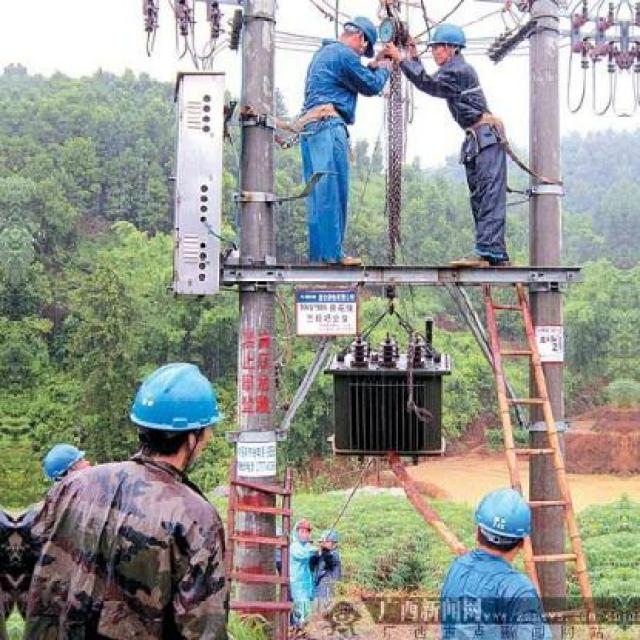helmet: (123, 353, 230, 469), (470, 487, 532, 562), (40, 438, 83, 491), (423, 20, 470, 66), (335, 14, 382, 60)
